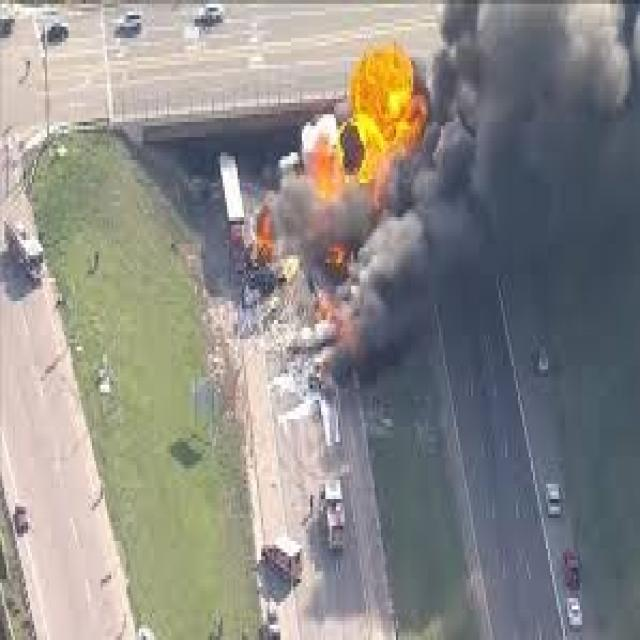Fire: (296, 21, 430, 196)
Smoke: (430, 0, 640, 309), (278, 198, 430, 400)
